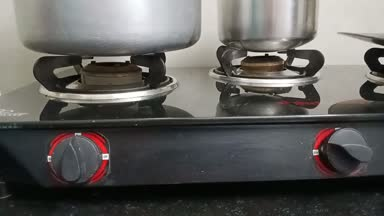noflame_gason: (222, 43, 376, 192), (22, 48, 174, 192)
